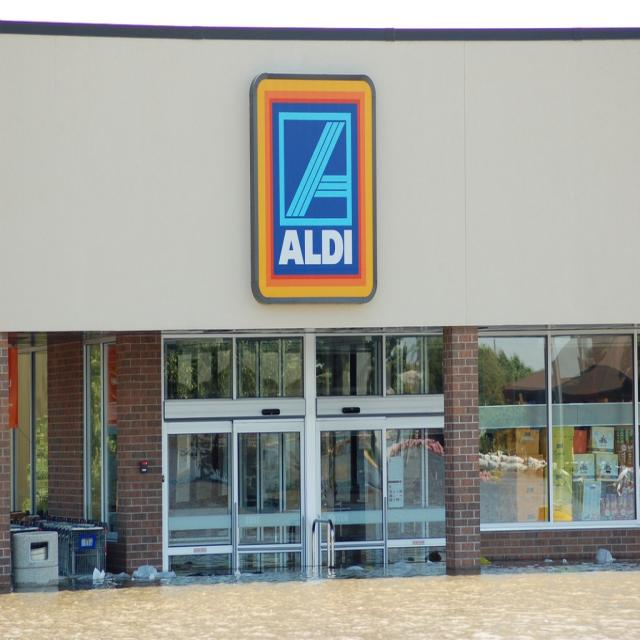aldi: (258, 79, 374, 298)
